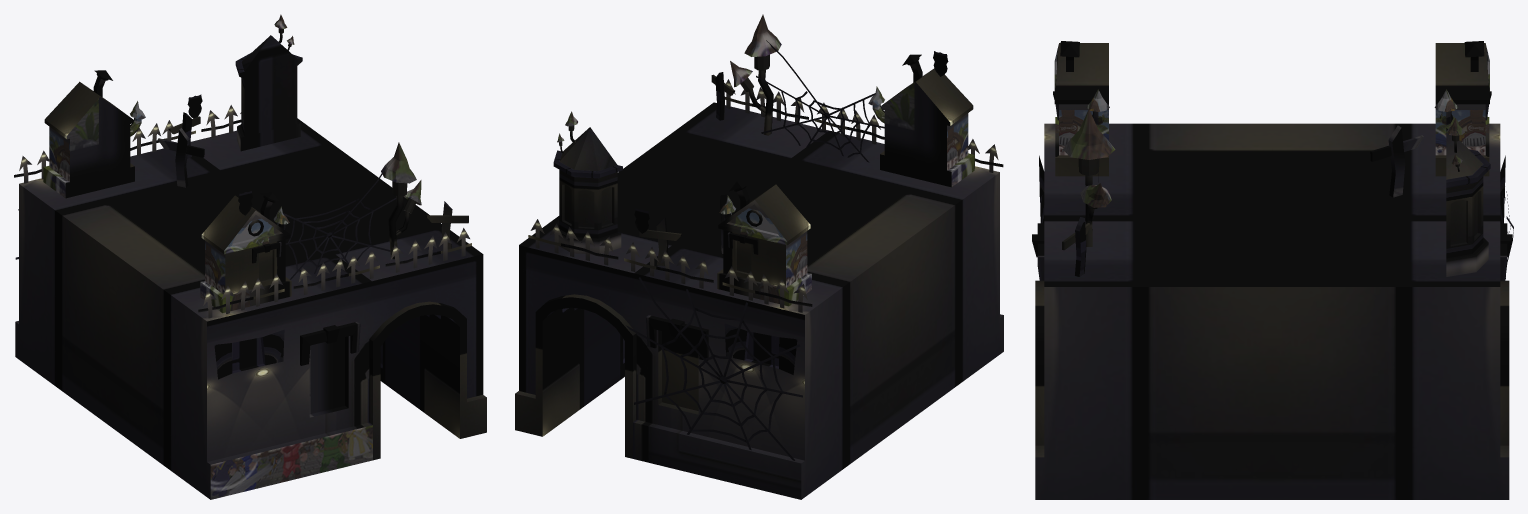
File: modelTunnelR(2).fbx
3 renders of one model, left to right at view 1: azimuth 30°, elevation 25°; view 2: azimuth 150°, elevation 25°; view 3: azimuth 270°, elevation 25°, orthographic. The views are drawn at different scales.
Parts seen in each view (by area): view 1: modelTunnerL; view 2: modelTunnerL; view 3: modelTunnerL.
Boxes of the visible parts, x1,y1,x2,y2 form: modelTunnerL: (14,14,486,499); modelTunnerL: (515,14,1003,499); modelTunnerL: (1032,41,1513,499).
Bounding box in the file's own units: 692 × 703 × 845.
